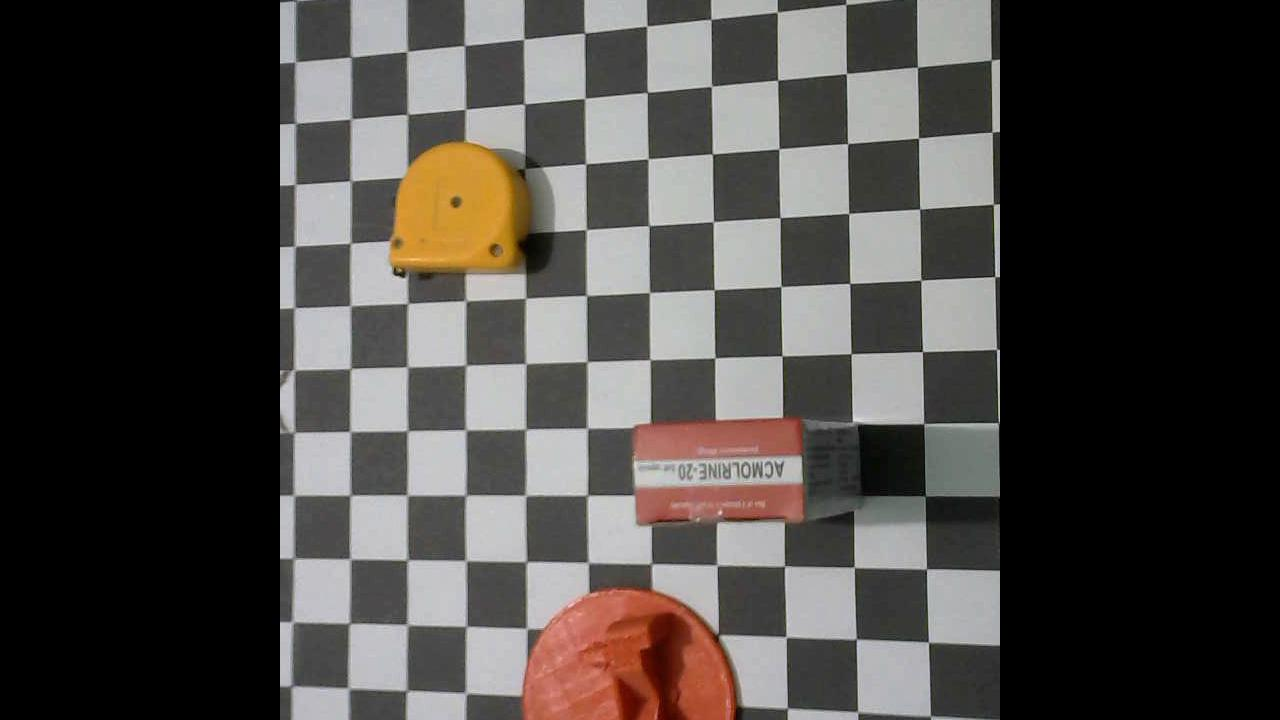blue: (386, 141, 538, 280)
green: (520, 588, 739, 719)
red: (631, 415, 861, 527)
